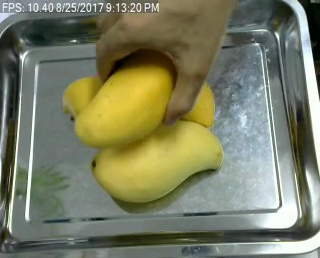Mango: (71, 41, 178, 151), (89, 120, 224, 205), (158, 68, 219, 127), (61, 71, 110, 123)
